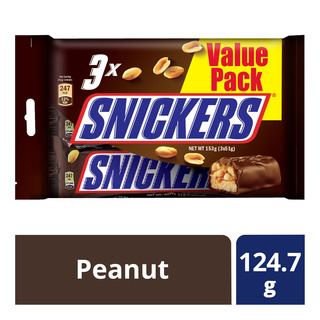snickers: (79, 95, 262, 137), (81, 153, 213, 188)
